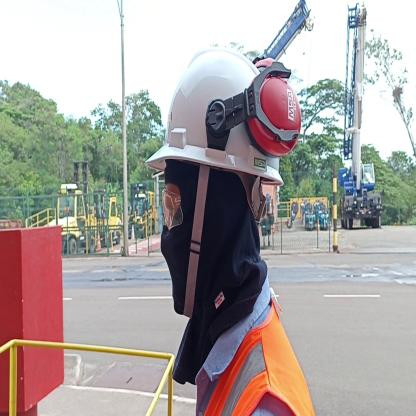Balaclava: (155, 168, 266, 325)
Capacete: (150, 42, 289, 180)
